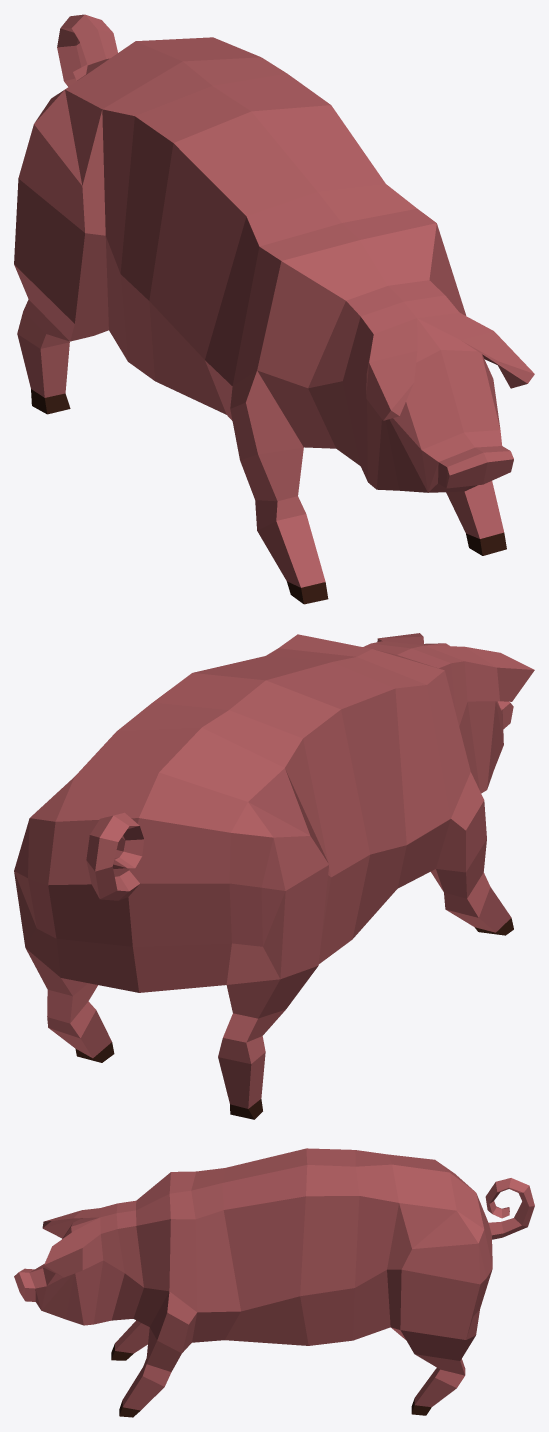
The model's file is Pig_000029.obj.
3 renders of one model, top to bottom at view 1: azimuth 30°, elevation 25°; view 2: azimuth 150°, elevation 25°; view 3: azimuth 270°, elevation 25°, orthographic. The views are drawn at different scales.
Parts seen in each view (by area): view 1: Pig_Cylinder; view 2: Pig_Cylinder; view 3: Pig_Cylinder.
Boxes of the visible parts, x1,y1,x2,y2 form: Pig_Cylinder: [14, 14, 534, 604]; Pig_Cylinder: [14, 633, 534, 1119]; Pig_Cylinder: [14, 1148, 534, 1417].
Bounding box in the file's own units: 3.3 × 4.41 × 9.43.
